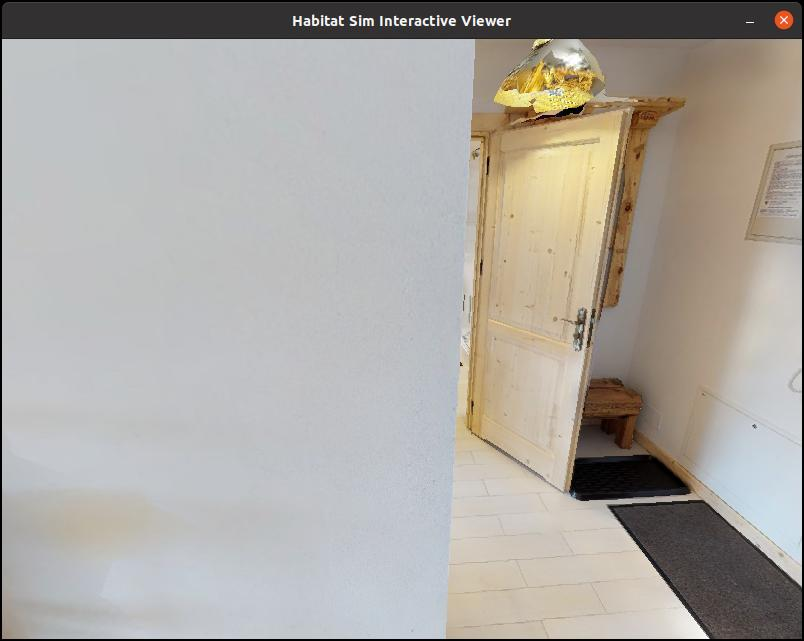door: (469, 97, 637, 515)
